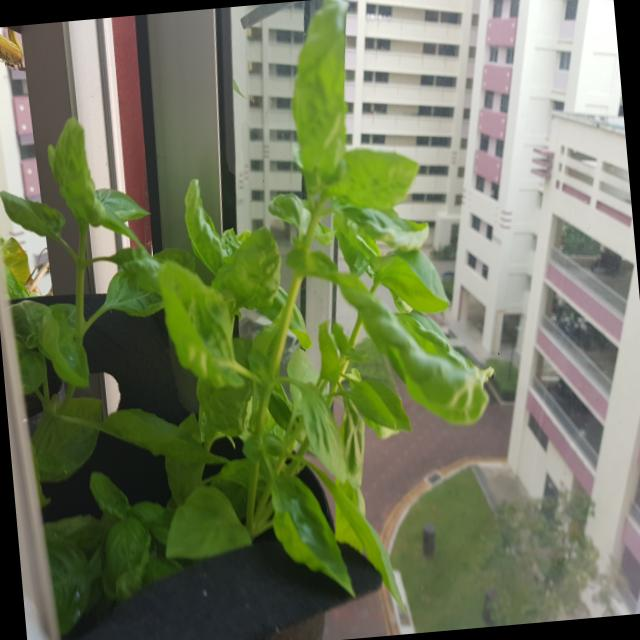Sweet Basil: (0, 54, 455, 624)
